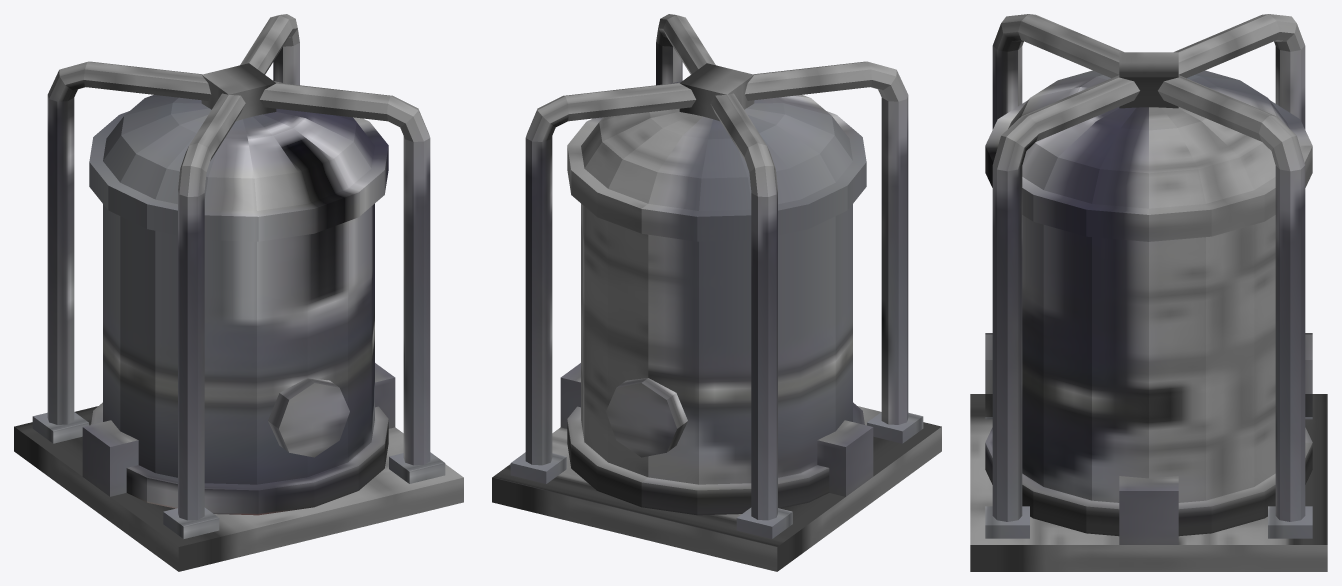
Rendered from boiler.obj.
3 renders of one model, left to right at view 1: azimuth 30°, elevation 25°; view 2: azimuth 150°, elevation 25°; view 3: azimuth 270°, elevation 25°, orthographic. The views are drawn at different scales.
Visible parts, largest first — view 1: Plane; view 2: Plane; view 3: Plane.
Part boxes in pixels (x1,y1,x2,y2): Plane: [14, 14, 463, 571]; Plane: [492, 14, 941, 571]; Plane: [970, 14, 1327, 571].
Size of the model in its own units: 3 by 4 by 3.
